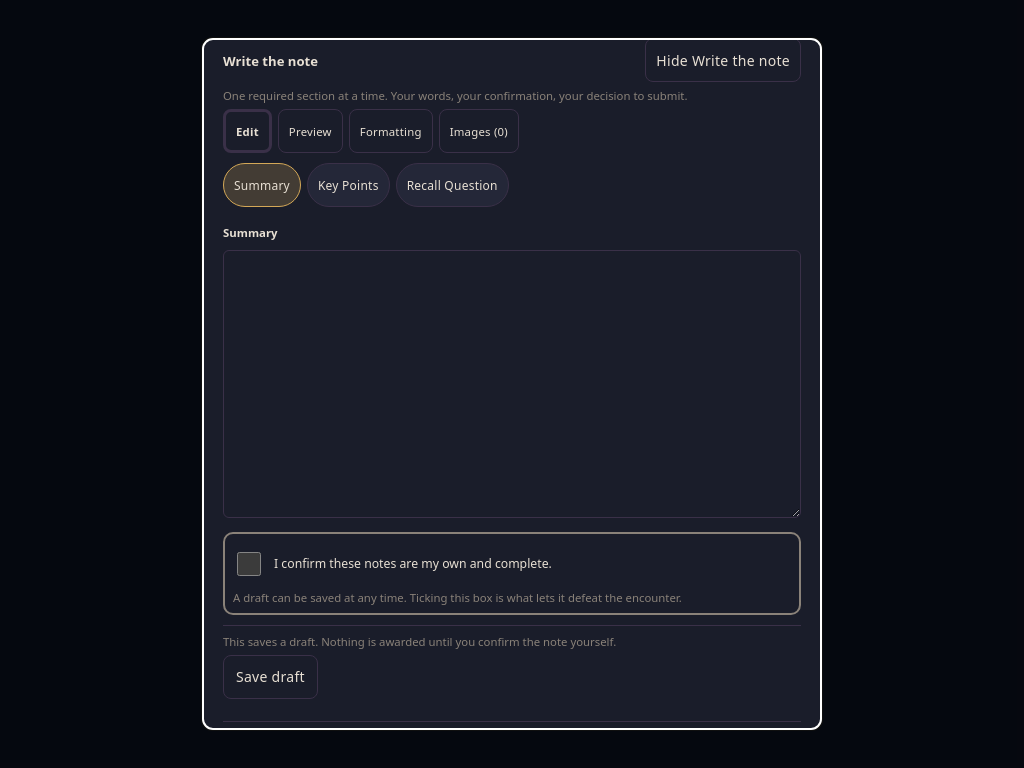
it: a refusal is disabled and carries visible text where the control is › never states a state in colour alone
The image size is (1024, 768).
(page scrolled)
Type "Matrix" into the text box labelled "Summary" at x=512, y=384, box [223,250,801,518]
(page scrolled)
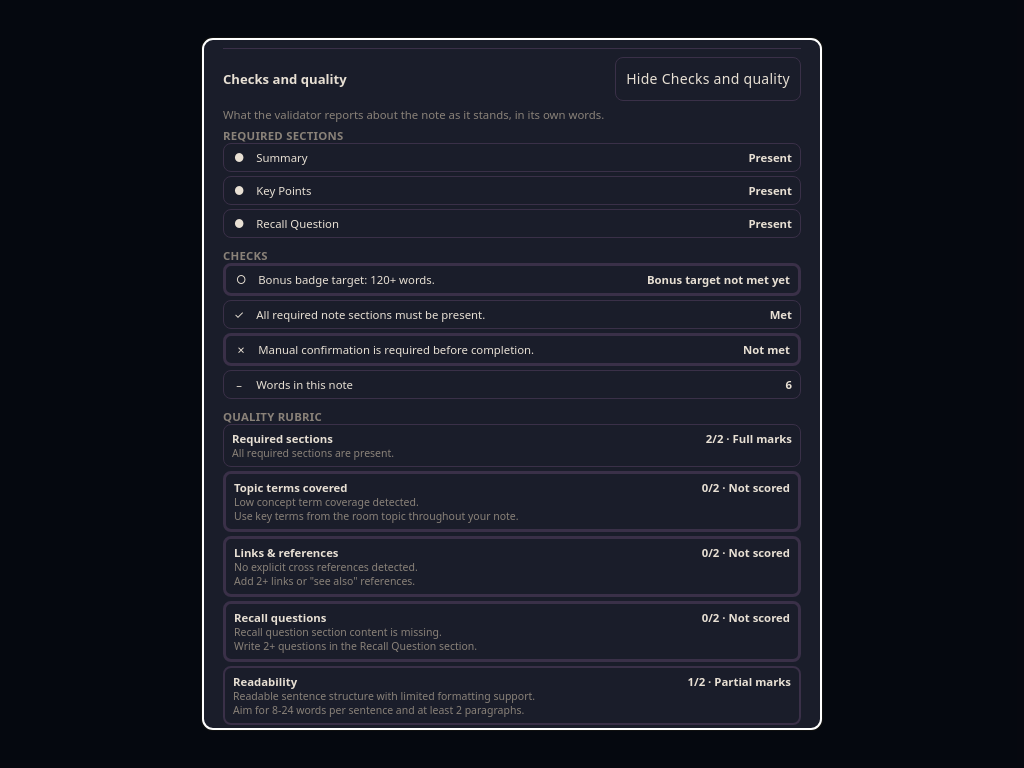
Now the text "Not met" is shown, box [743,342,790,357]
Now the text "Met" is shown, box [770,307,792,322]
